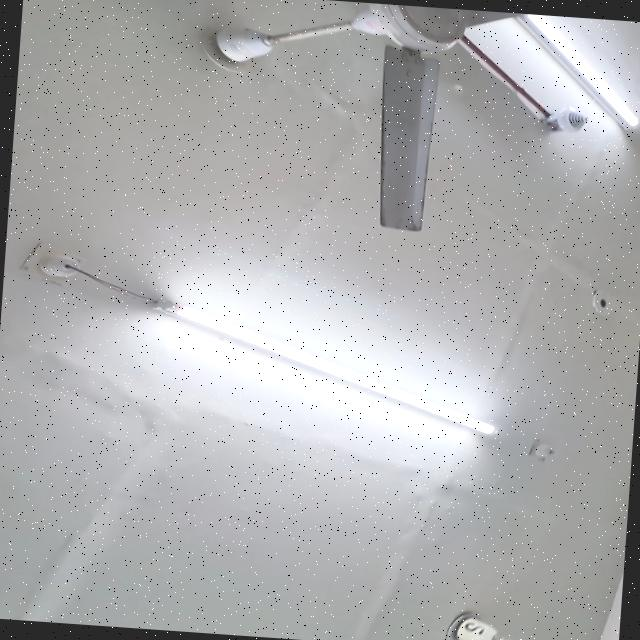Light: (152, 299, 495, 434), (517, 14, 637, 127)
